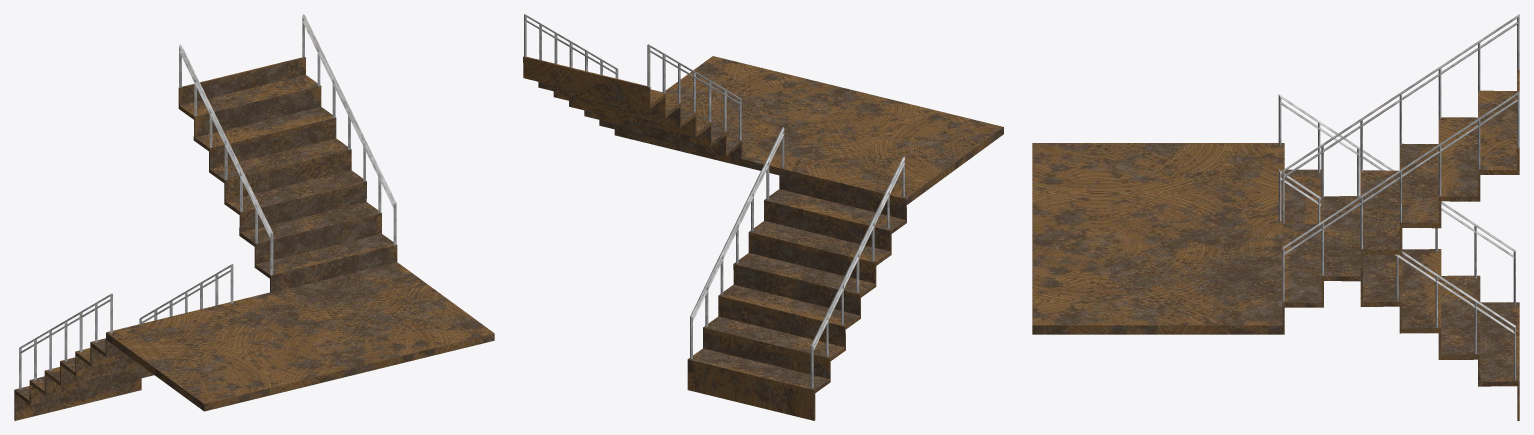
File: escadas (1).fbx
3 views of the same model, side by side, from view 1: azimuth 30°, elevation 25°; view 2: azimuth 150°, elevation 25°; view 3: azimuth 270°, elevation 25° (orthographic). The views are drawn at different scales.
Parts seen in each view (by area): view 1: pared.005; view 2: pared.005; view 3: pared.005.
Boxes of the visible parts, <box> form: pared.005: <box>14,14,494,420</box>; pared.005: <box>523,14,1003,420</box>; pared.005: <box>1032,14,1519,420</box>.
Bounding box in the file's own units: 684 × 755 × 772.
